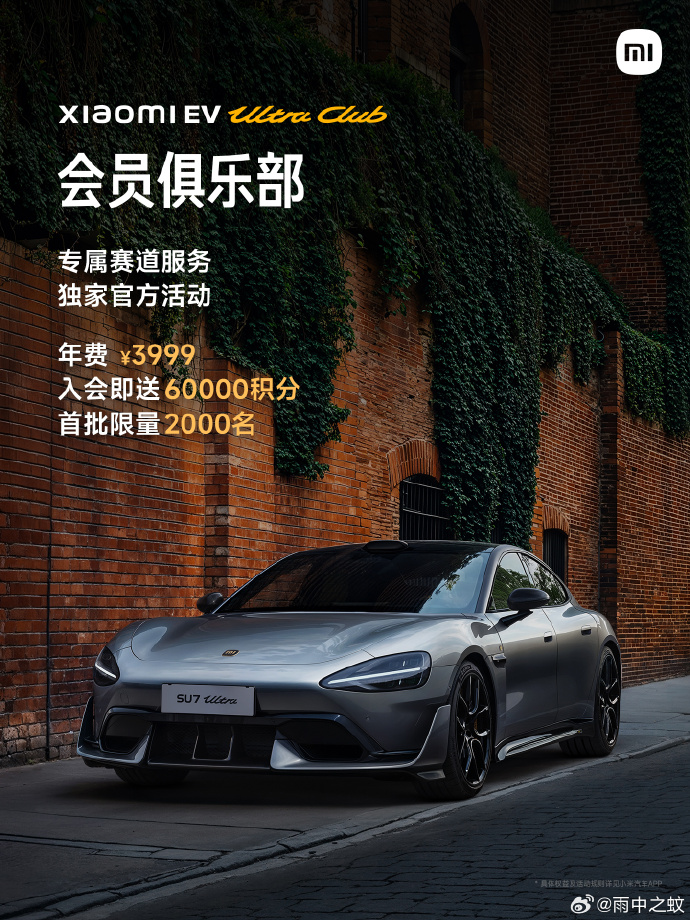su7: (90, 536, 631, 792)
